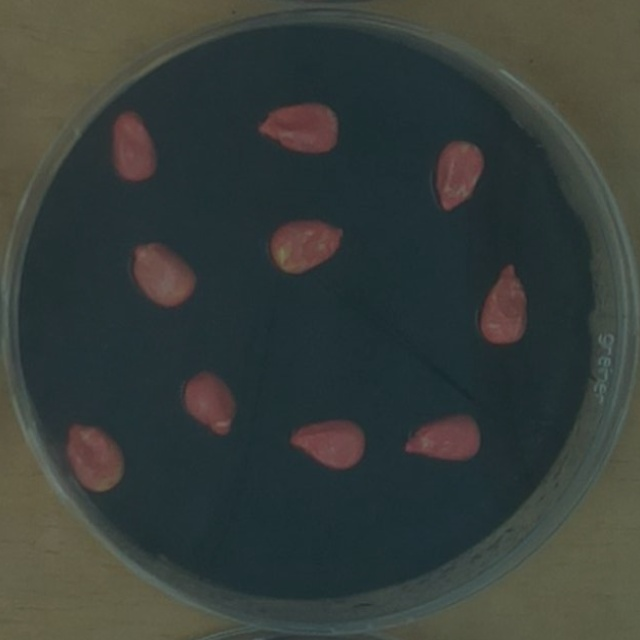Zea mays: (250, 92, 347, 161), (123, 233, 205, 313), (263, 209, 351, 282), (57, 415, 133, 499), (282, 412, 372, 479), (397, 404, 487, 470), (475, 255, 536, 352), (428, 131, 494, 220), (178, 360, 244, 442), (103, 102, 164, 188)
